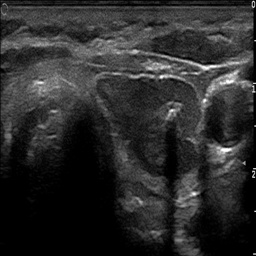mass: (94, 73, 202, 174)
